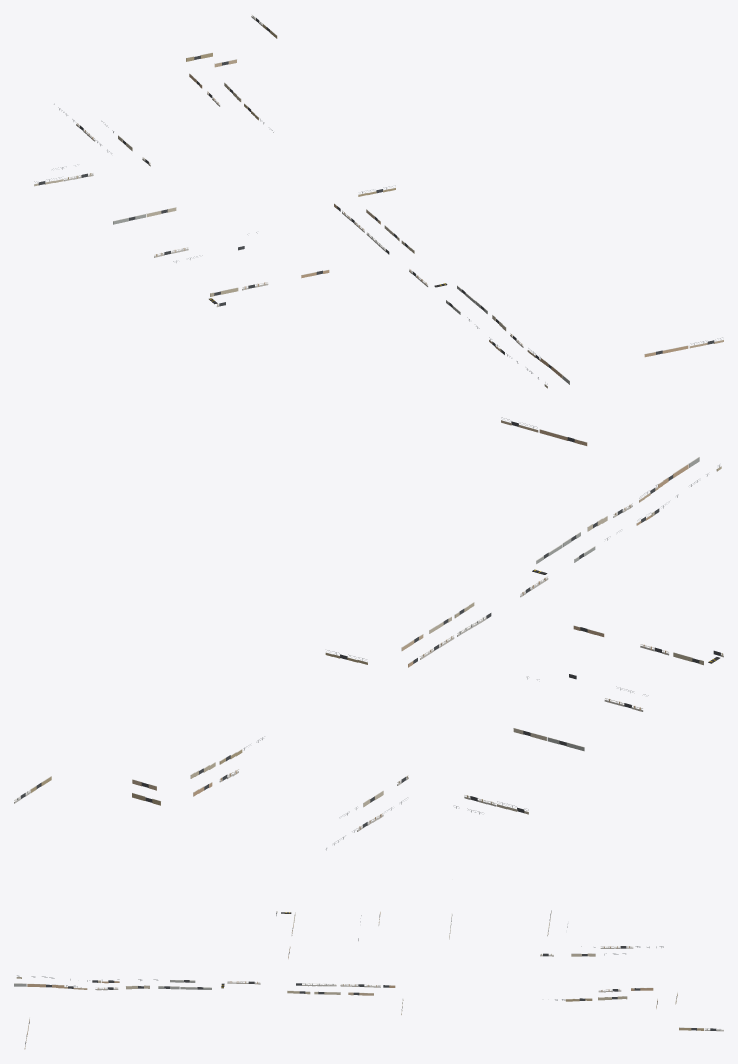
The picture shows the model from 3 angles, top to bottom: view 1: azimuth 30°, elevation 25°; view 2: azimuth 150°, elevation 25°; view 3: azimuth 270°, elevation 25°; orthographic projection. The views are drawn at different scales.
Parts seen in each view (by area): view 1: nd_st_m16_m4_lod0; view 2: nd_st_m16_m4_lod0; view 3: nd_st_m16_m4_lod0.
Part boxes in pixels (x1,y1,x2,y2): nd_st_m16_m4_lod0: [34, 14, 723, 388]; nd_st_m16_m4_lod0: [14, 417, 723, 850]; nd_st_m16_m4_lod0: [14, 910, 723, 1049].
Size of what is drawn, in the model's own units: 233 by 7.6 by 412.
